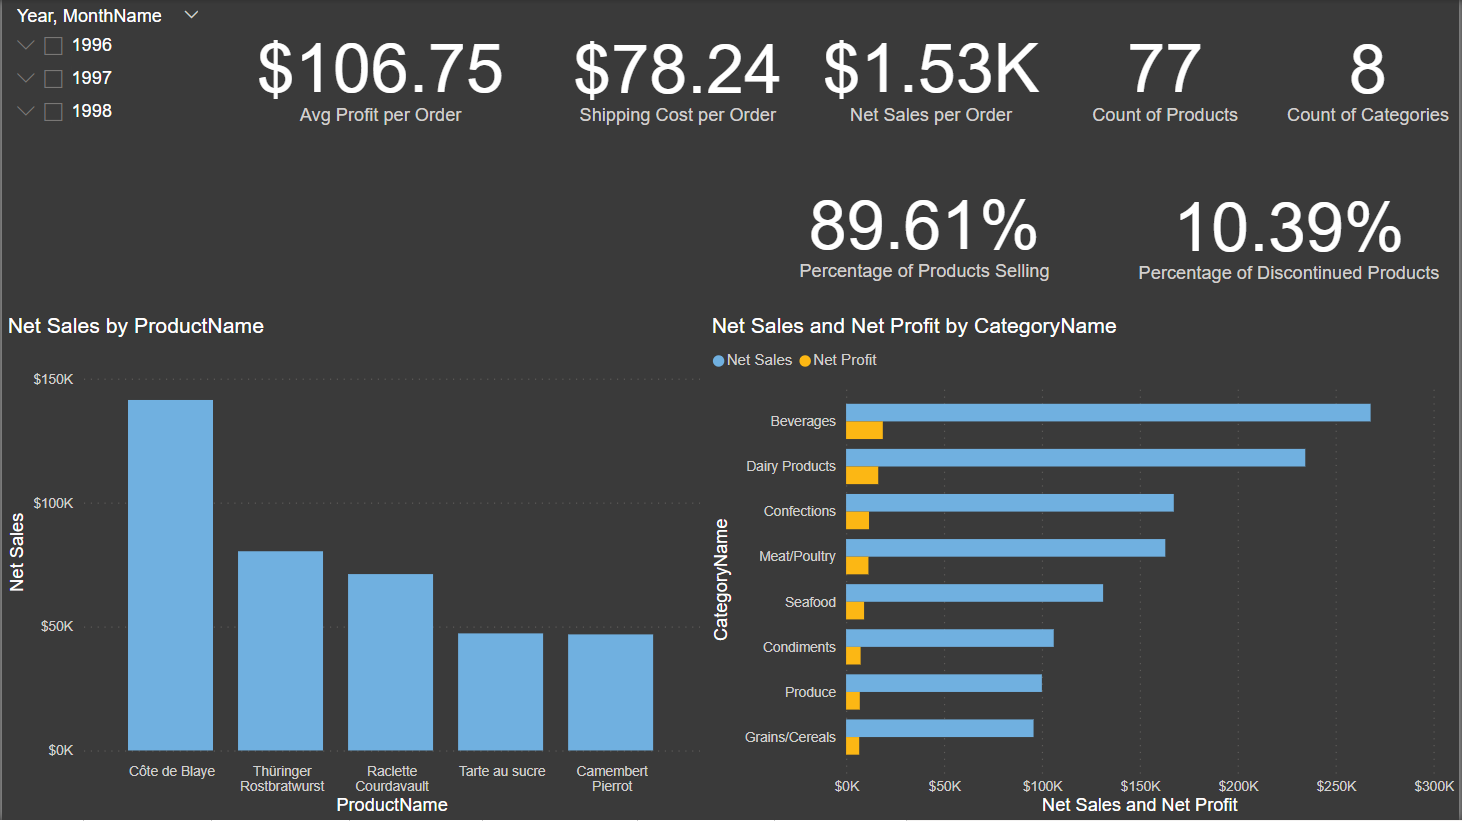

What the dashboard file says about the page in this screenshot:
{"tool":"powerbi","page":{"name":"Products report : ","canvas":[1280,720],"ordinal":3},"visuals":[{"type":"card","fields":{"Values":["Categories.Avg Profit per Order"]},"box":[185.3,0,294.2,126.8],"z":0},{"type":"card","fields":{"Values":["Categories.Shipping Cost per Order"]},"box":[479.5,0,227.9,127.8],"z":1000},{"type":"card","fields":{"Values":["Categories.Net Sales per Order"]},"box":[707.4,0,216,126.8],"z":2000},{"type":"card","fields":{"Values":["Categories.Count of Products"]},"box":[923.3,0,195.2,126.8],"z":3000},{"type":"card","fields":{"Values":["Categories.Count of Categories"]},"box":[1118.6,0,161.6,128.2],"z":4000},{"type":"card","fields":{"Values":["Categories.Percentage of Discontinued Products"]},"box":[979.9,128.2,300.3,149.3],"z":5000},{"type":"card","fields":{"Values":["Categories.Percentage of Products Selling"]},"box":[640,126.8,339.8,148.6],"z":6000},{"type":"slicer","fields":{"Values":["DateDimension_new.Year","DateDimension_new.MonthName"]},"box":[0,0,185.3,275.4],"z":7000},{"type":"clusteredColumnChart","fields":{"Category":["Products.ProductName"],"Y":["Categories.Net Sales"]},"box":[0,275.8,618,444.2],"z":8000},{"type":"clusteredBarChart","fields":{"Category":["Categories.CategoryName"],"Y":["Categories.Net Sales","Categories.Net Profit"]},"box":[618.2,275.4,661.8,444.8],"z":9000}]}

Visuals, with their boxes in screenshot pixels (x1, y1, x2, y2), scaled from the page's 1280x720 canvas onto the 1462x821 screenshot:
card - Categories.Avg Profit per Order: [left=212, top=0, right=548, bottom=145]
card - Categories.Shipping Cost per Order: [left=548, top=0, right=808, bottom=146]
card - Categories.Net Sales per Order: [left=808, top=0, right=1055, bottom=145]
card - Categories.Count of Products: [left=1055, top=0, right=1278, bottom=145]
card - Categories.Count of Categories: [left=1278, top=0, right=1461, bottom=146]
card - Categories.Percentage of Discontinued Products: [left=1119, top=146, right=1461, bottom=316]
card - Categories.Percentage of Products Selling: [left=731, top=145, right=1119, bottom=314]
slicer - DateDimension_new.Year x DateDimension_new.MonthName: [left=0, top=0, right=212, bottom=314]
clusteredColumnChart - Products.ProductName x Categories.Net Sales: [left=0, top=314, right=706, bottom=820]
clusteredBarChart - Categories.CategoryName x Categories.Net Sales: [left=706, top=314, right=1461, bottom=820]
